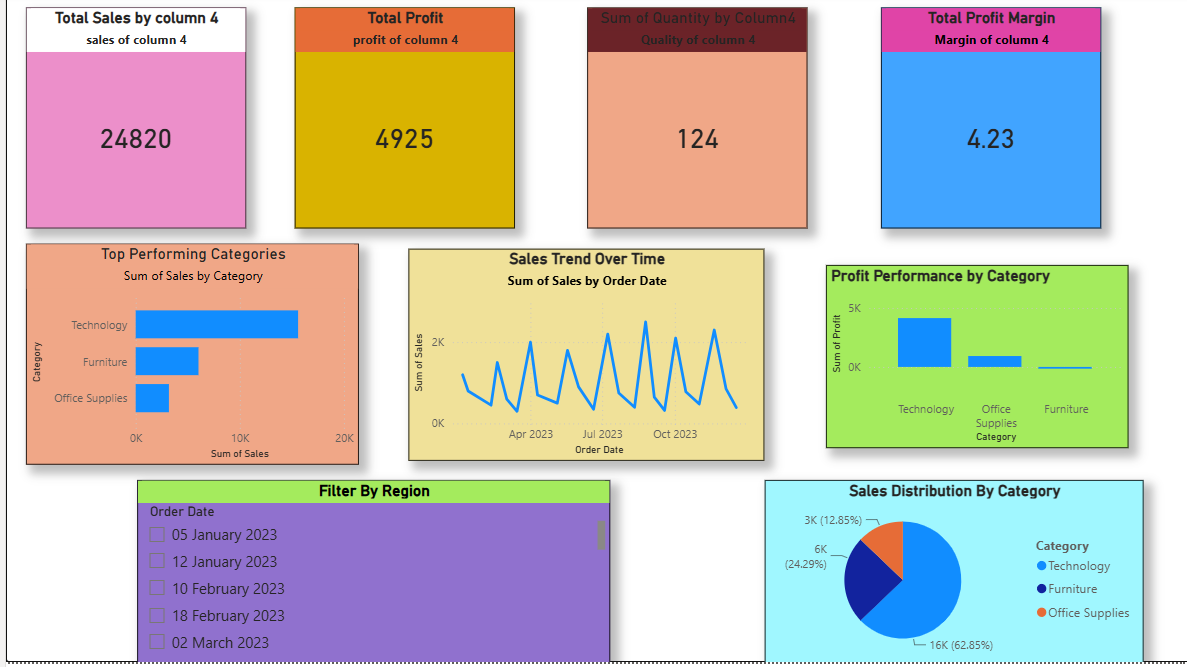

Layout of this report page (visuals, bound fields, positions):
{"tool":"powerbi","page":{"name":"Page 2","canvas":[1280,720],"ordinal":1},"visuals":[{"type":"kpi","title":"Total Sales by column 4","fields":{"Indicator":["Sum(Table001 (Page 1).Sales)"],"TrendLine":["Page001.Column4"]},"box":[22,13.7,237.4,238.8],"z":0},{"type":"kpi","title":"Total  Profit","fields":{"Indicator":["Sum(Table001 (Page 1).Profit)"],"TrendLine":["Page001.Column4"]},"box":[311.5,13.7,237.4,238.8],"z":1},{"type":"kpi","fields":{"Indicator":["Sum(Table001 (Page 1).Quantity)"],"TrendLine":["Page001.Column4"]},"box":[627.1,13.7,237.4,238.8],"z":2},{"type":"kpi","title":"Total Profit Margin","fields":{"Indicator":["Sum(Table001 (Page 1).Profit Margin)"],"TrendLine":["Page001.Column4"]},"box":[944.1,13.7,237.4,238.8],"z":3},{"type":"clusteredBarChart","title":"Top Performing Categories","fields":{"Y":["Sum(Table001 (Page 1).Sales)"],"Category":["Table001 (Page 1).Category"]},"box":[22,269,359.5,238.8],"z":4},{"type":"lineChart","title":"Sales Trend Over Time","fields":{"Category":["Table001 (Page 1).Order Date"],"Y":["Sum(Table001 (Page 1).Sales)"]},"box":[435,274.4,384.2,229.2],"z":5},{"type":"pieChart","title":"Sales Distribution By  Category","fields":{"Category":["Table001 (Page 1).Category"],"Y":["Sum(Table001 (Page 1).Sales)"]},"box":[819.2,522.8,408.9,197.6],"z":6},{"type":"clusteredColumnChart","title":"Profit Performance by Category","fields":{"Category":["Table001 (Page 1).Category"],"Y":["Sum(Table001 (Page 1).Profit)"]},"box":[885.1,290.9,326.6,197.6],"z":7},{"type":"slicer","title":"Filter By Region","fields":{"Values":["Table001 (Page 1).Order Date"]},"box":[141.3,522.8,510.5,197.6],"z":8}]}

Visuals, with their boxes in screenshot pixels (x1, y1, x2, y2), scaled from the page's 1280x720 canvas onto the 1187x667 screenshot:
"Total Sales by column 4" kpi: (left=20, top=13, right=241, bottom=234)
"Total  Profit" kpi: (left=289, top=13, right=509, bottom=234)
kpi - Sum(Table001 (Page 1).Quantity) x Page001.Column4: (left=582, top=13, right=802, bottom=234)
"Total Profit Margin" kpi: (left=876, top=13, right=1096, bottom=234)
"Top Performing Categories" clusteredBarChart: (left=20, top=249, right=354, bottom=470)
"Sales Trend Over Time" lineChart: (left=403, top=254, right=760, bottom=467)
"Sales Distribution By  Category" pieChart: (left=760, top=484, right=1139, bottom=666)
"Profit Performance by Category" clusteredColumnChart: (left=821, top=269, right=1124, bottom=453)
"Filter By Region" slicer: (left=131, top=484, right=604, bottom=666)
